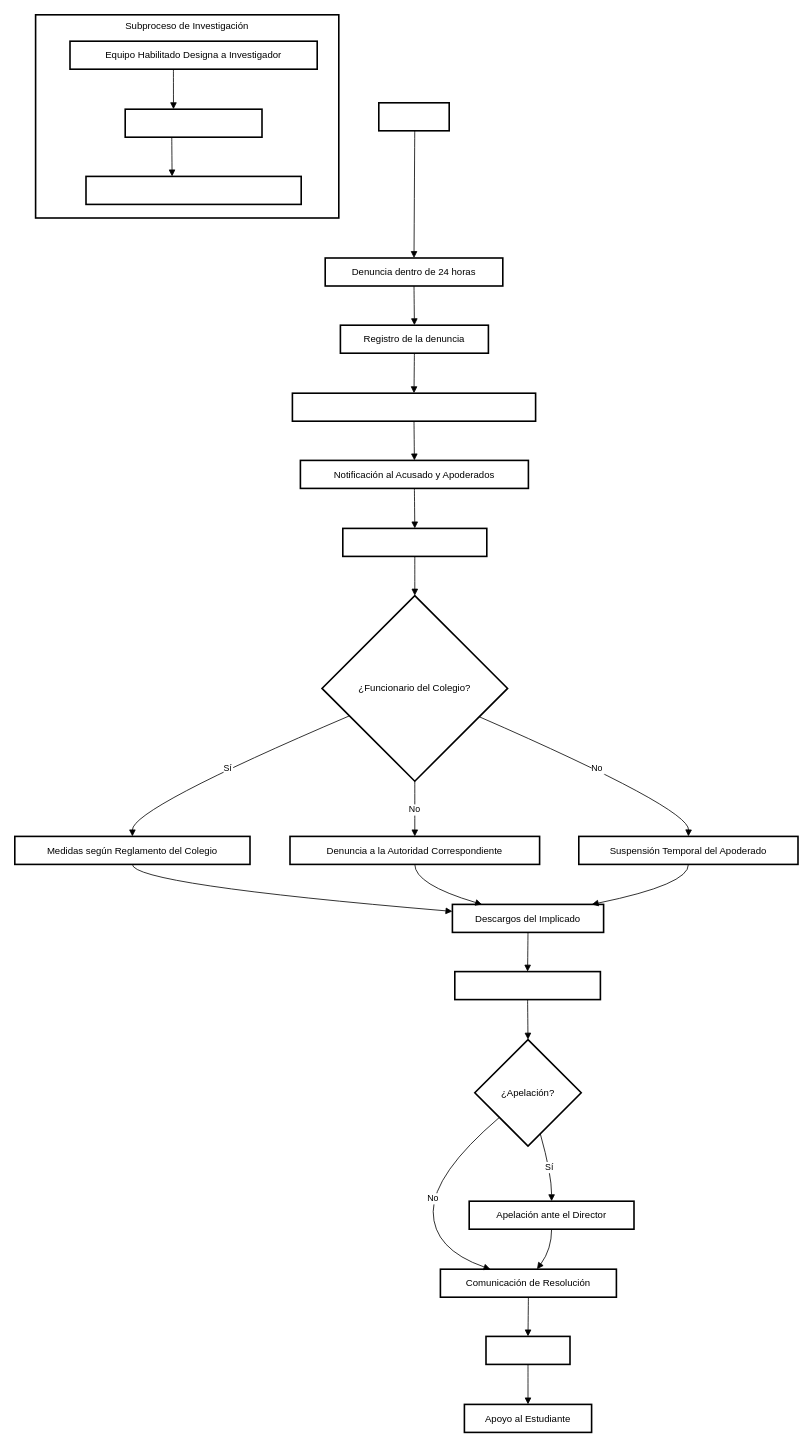
Image size: 812x1446. Some labels were removed from this diagram. The shapes that lost their labels are listed below. From the top down, each one's box as (x1, y1, x2, y2) in pixels, then its label:
(124, 108, 262, 138): Plazo máximo 25 días
(378, 102, 450, 131): Detección
(85, 175, 302, 205): Entrevistas y Análisis de Evidencias
(291, 392, 536, 422): Investigación y Recogida de Información
(342, 527, 487, 557): Formulación de Cargos
(454, 970, 601, 1000): Calificación de la Falta
(485, 1335, 570, 1365): Seguimiento
